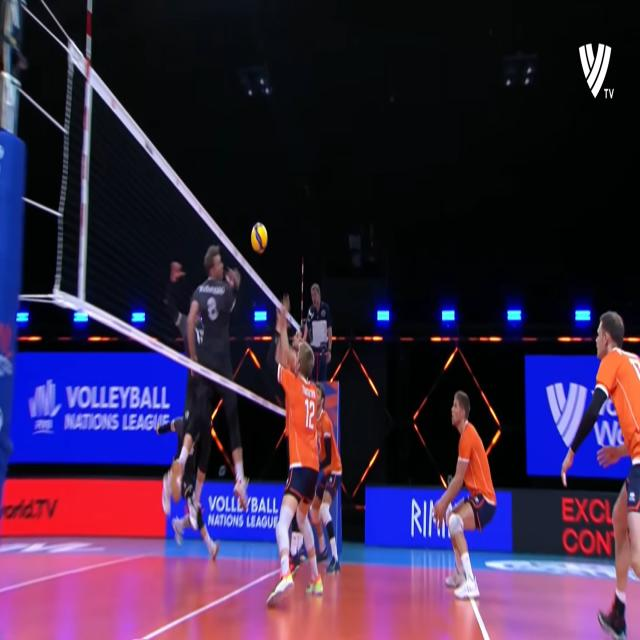player: (558, 301, 640, 640), (183, 245, 246, 514), (274, 310, 324, 607), (434, 386, 496, 600), (314, 381, 344, 579)
